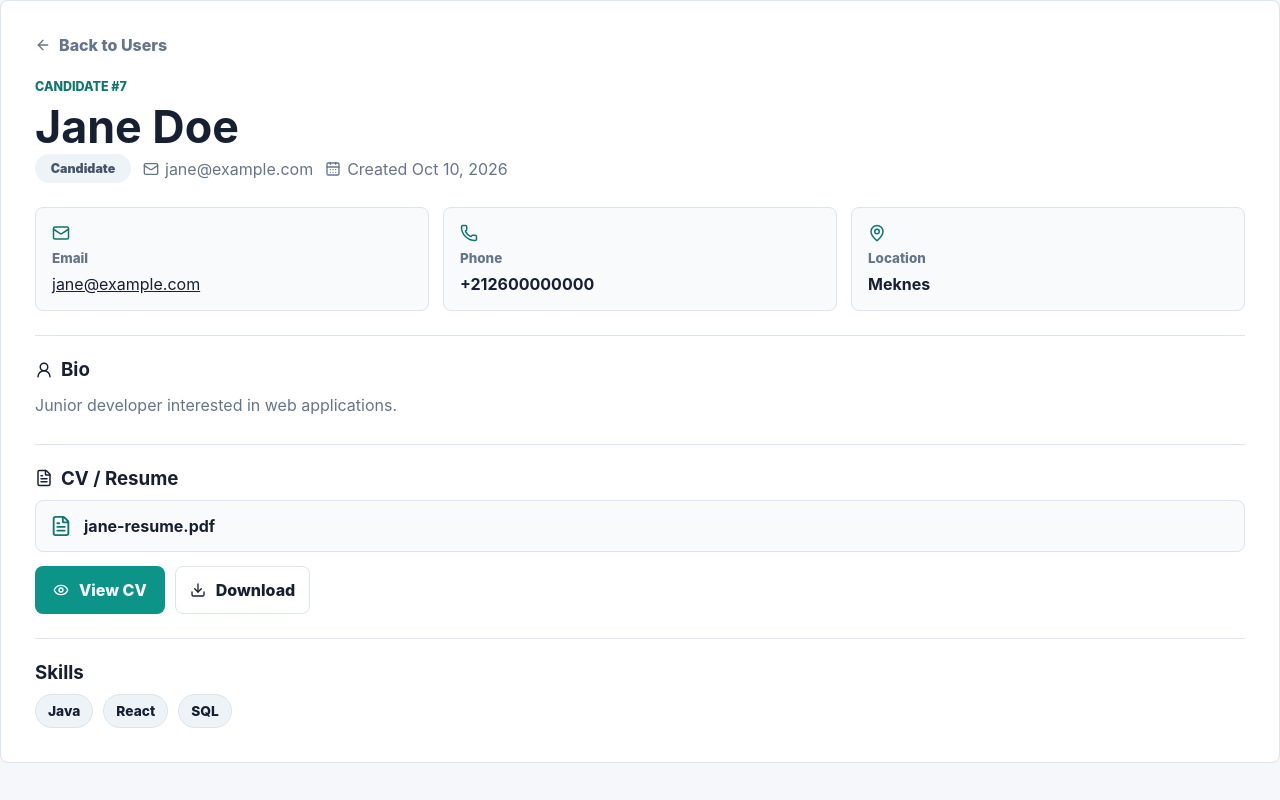
AdminCandidateDetailsPage › shows an error when downloading the CV fails
This screenshot has width=1280, height=800.
Click the button "Download" at (243, 590), box [175,566,310,614]
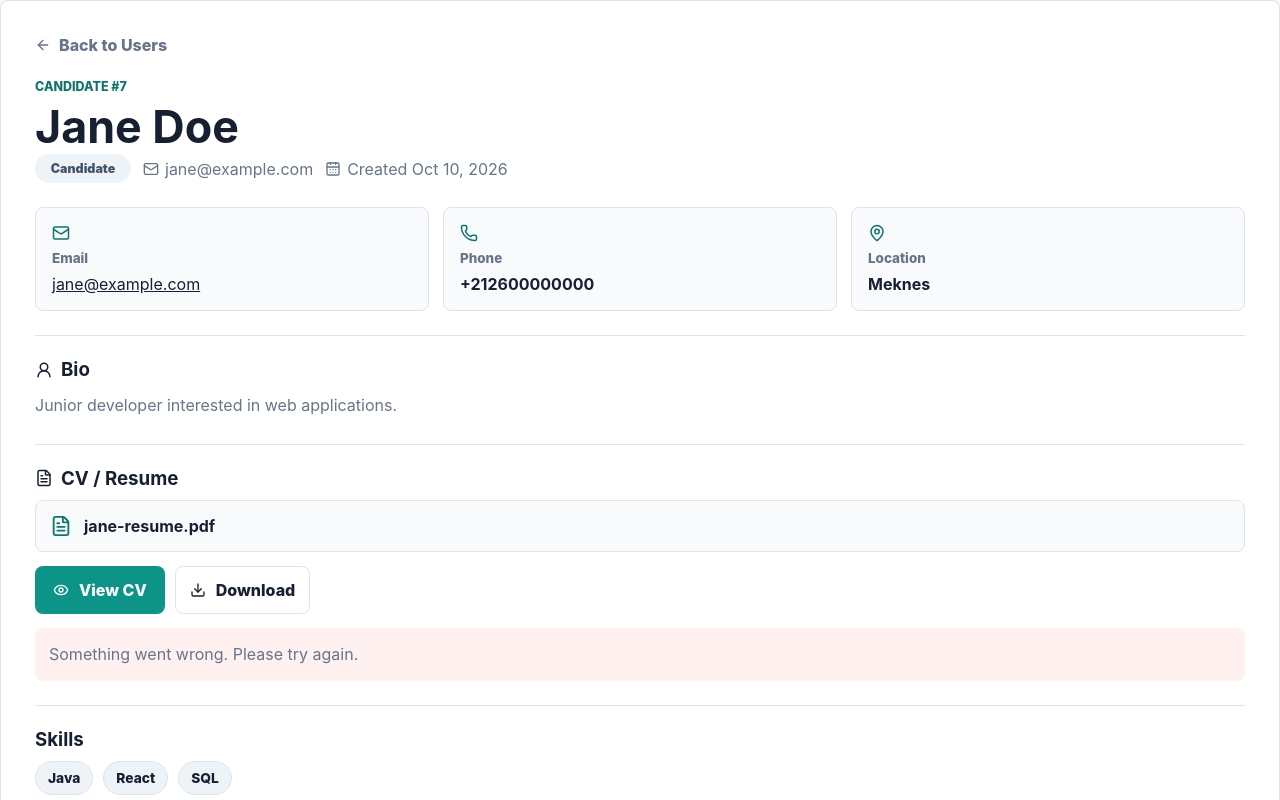
Expected: the text "Something went wrong. Please try again." is shown, [35,628,1245,681]
